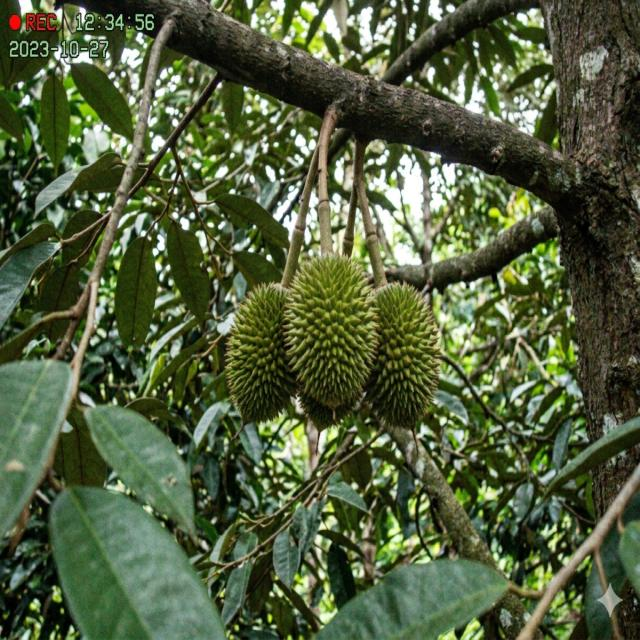immature: (284, 251, 381, 424), (360, 281, 444, 429), (223, 282, 300, 425)
